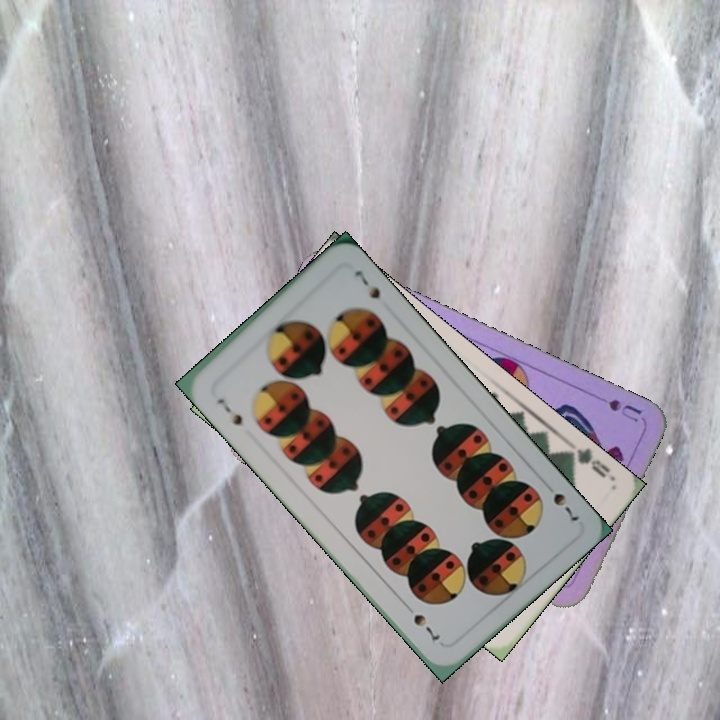G9: (562, 444, 613, 481)
S7: (548, 489, 582, 524), (213, 394, 245, 428)
SU: (587, 388, 645, 425)
